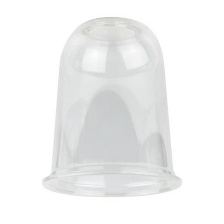glass: (36, 13, 194, 205)
